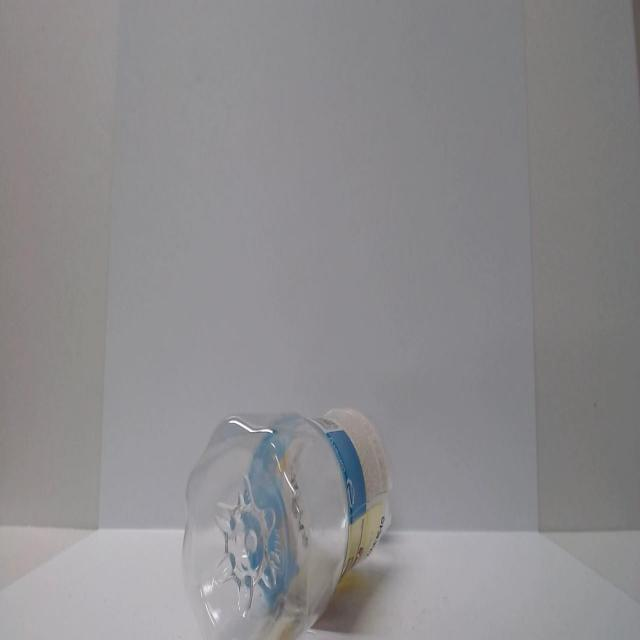bottle: (164, 402, 408, 640)
